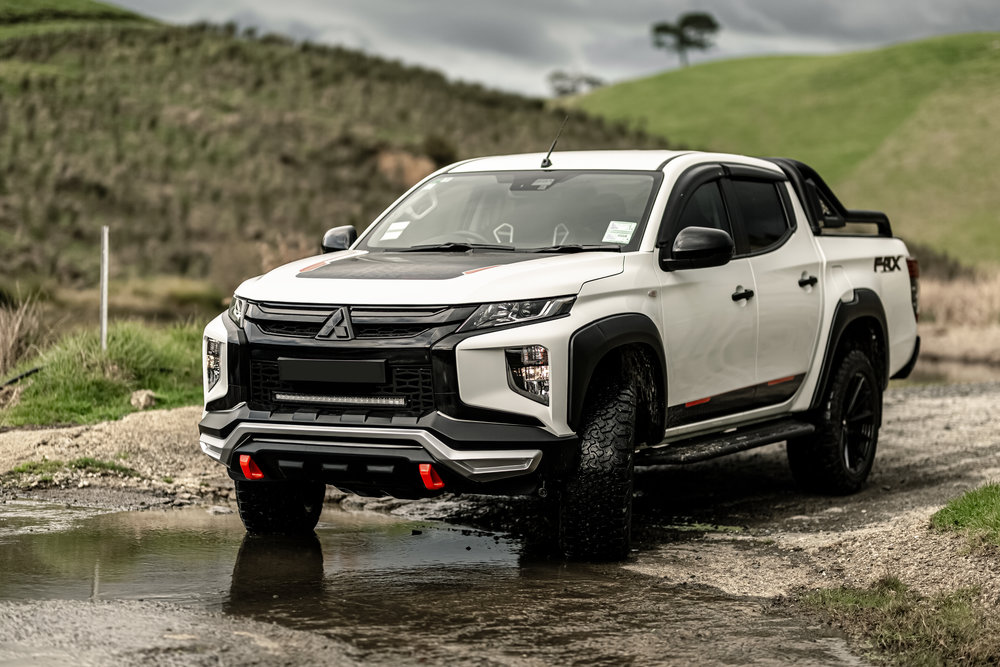pickup: (195, 146, 922, 558)
